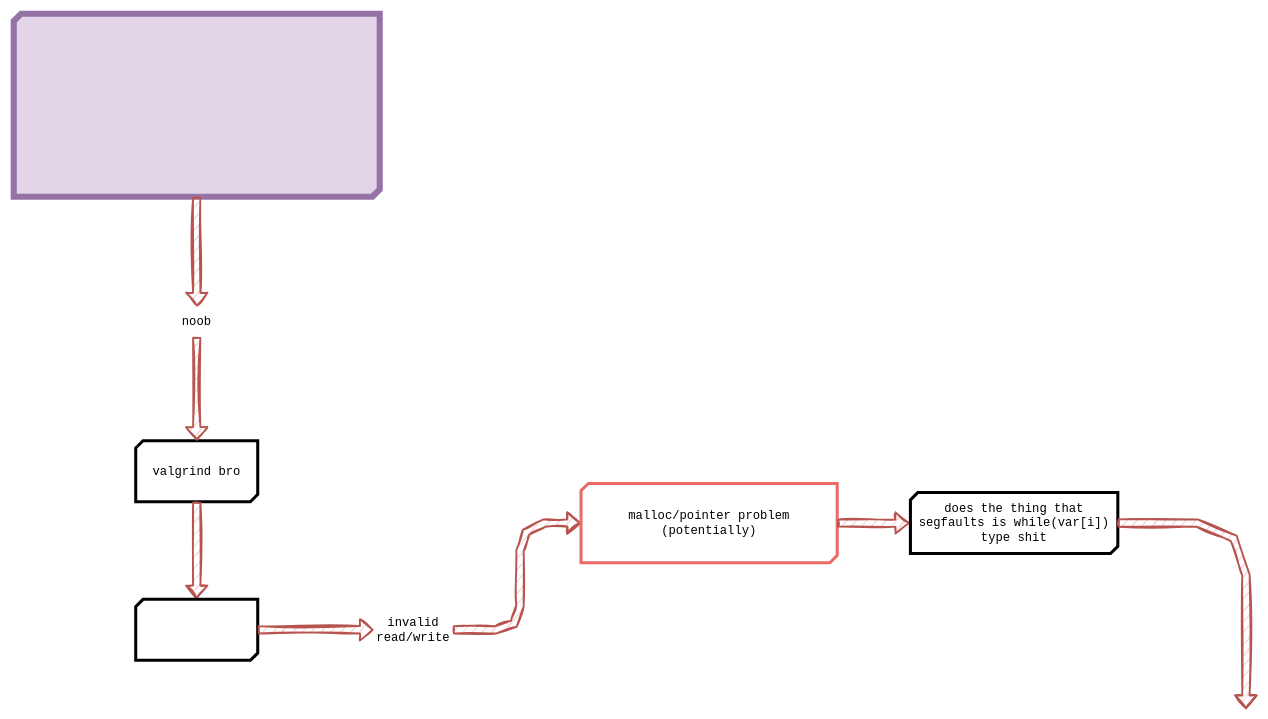
Image size: 1268x719. Some labels were removed from this diagram. Each missing label, with the box of its shape:
Seg fault?: (10, 10, 382, 199)
what type?: (134, 597, 259, 662)
